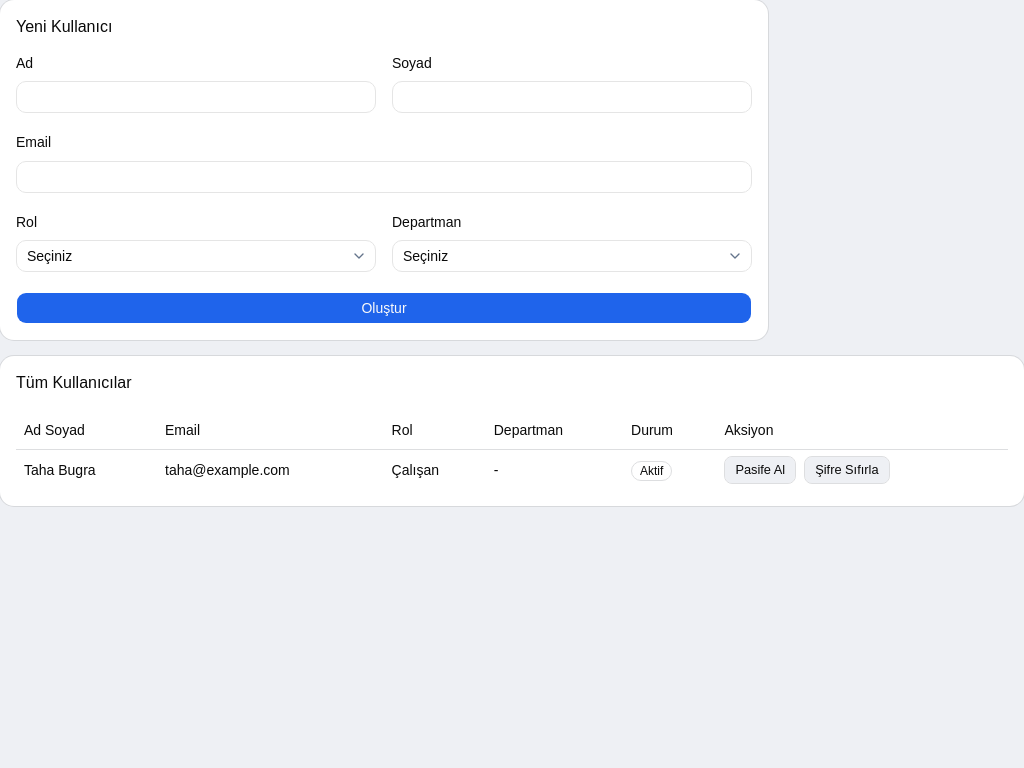
Test: AdminUsers page › copies the temporary password with Kopyala and shows "Şifre kopyalandı"
Click the button "Şifre Sıfırla" at (847, 470), box [804, 456, 890, 484]
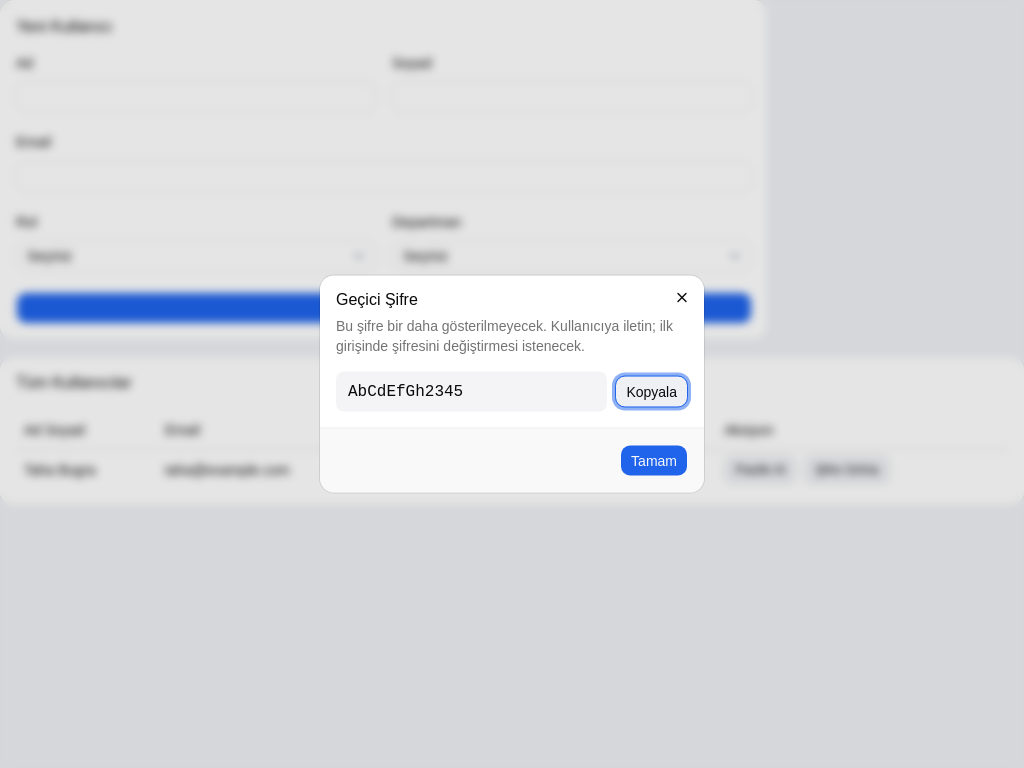
Click the button "Kopyala" at (652, 392), box [615, 376, 688, 408]
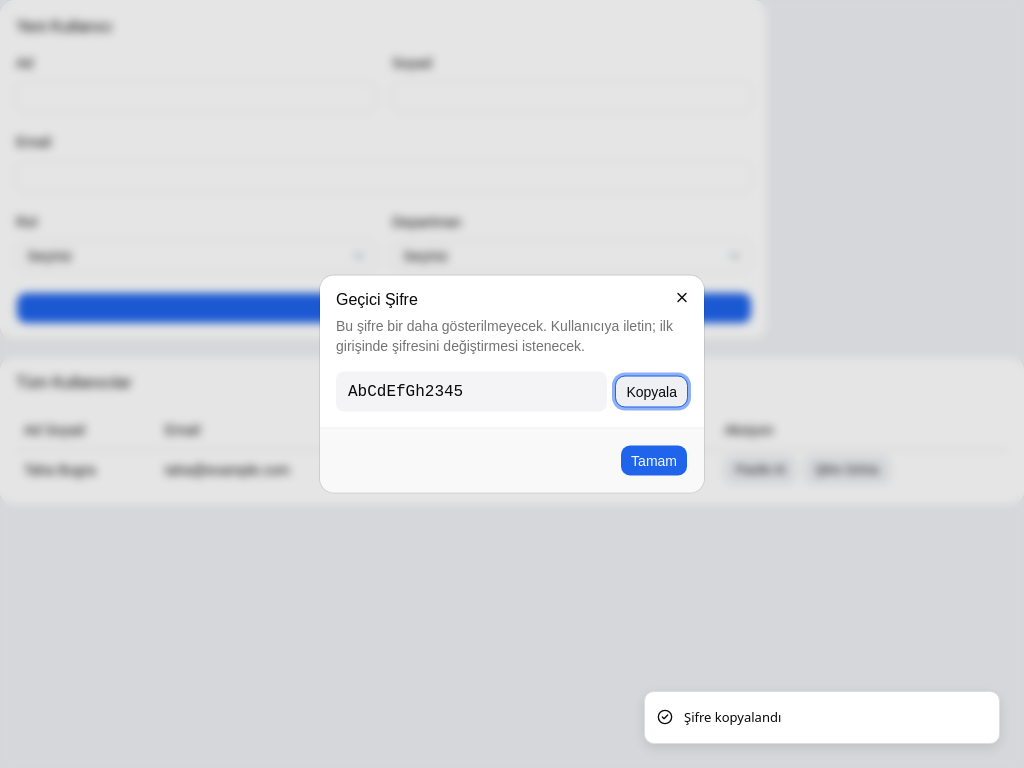
Now the text "Şifre kopyalandı" is shown, box [684, 708, 781, 727]
